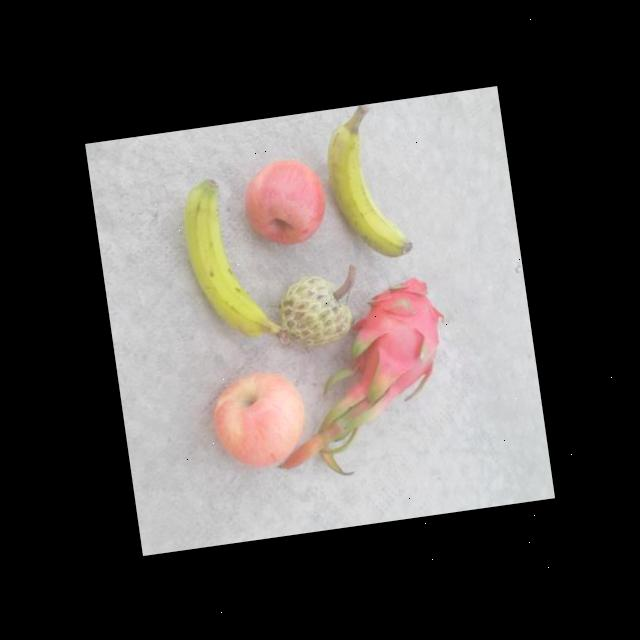Sakya fruit: (274, 270, 357, 350)
apple: (210, 368, 311, 472), (238, 153, 334, 250)
banana: (180, 171, 281, 350), (322, 115, 421, 266)
pitaya: (350, 279, 452, 396)
